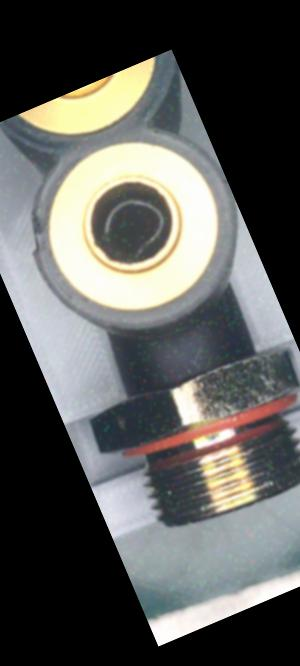bump: (19, 208, 53, 258)
joint line: (168, 333, 190, 363)
off-centered: (84, 181, 180, 272)
white mark: (186, 337, 216, 371), (177, 358, 195, 377)
